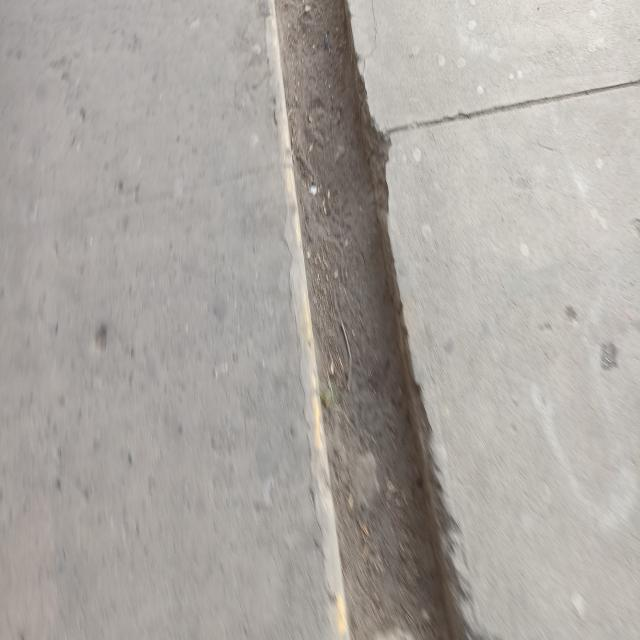hole: (272, 0, 473, 640)
